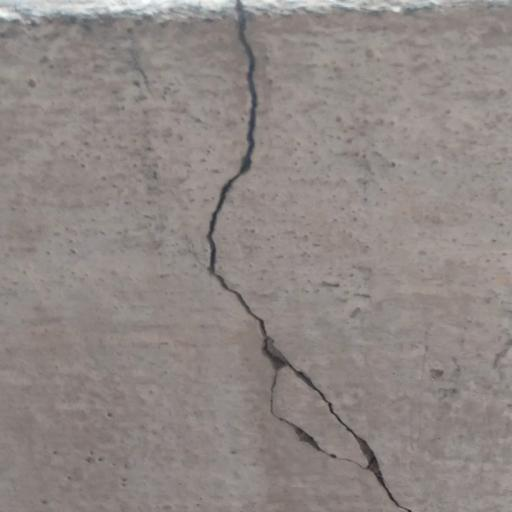major_crack: (186, 0, 429, 512)
